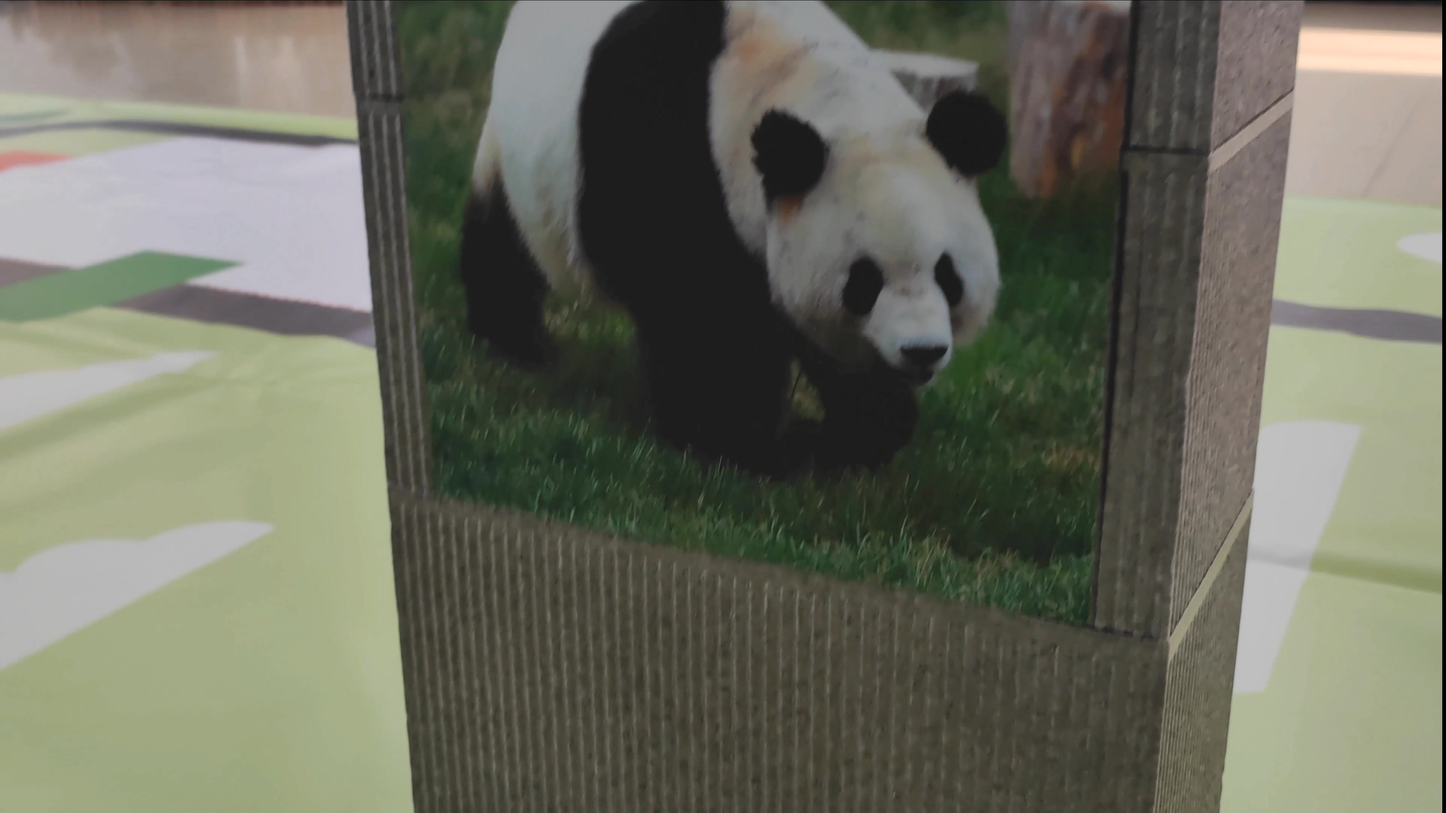panda: (465, 1, 1057, 484)
